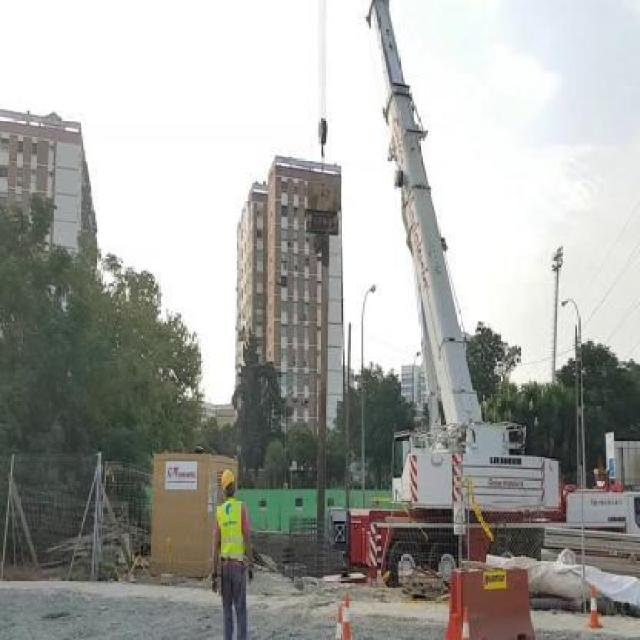Mobile Crane: (360, 2, 569, 590)
